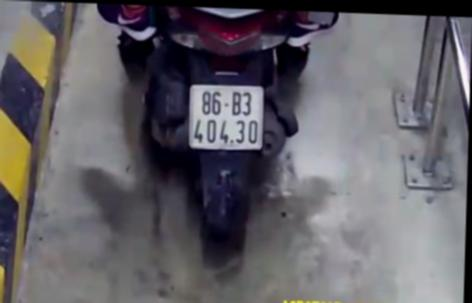License_Plate: (182, 78, 273, 156)
